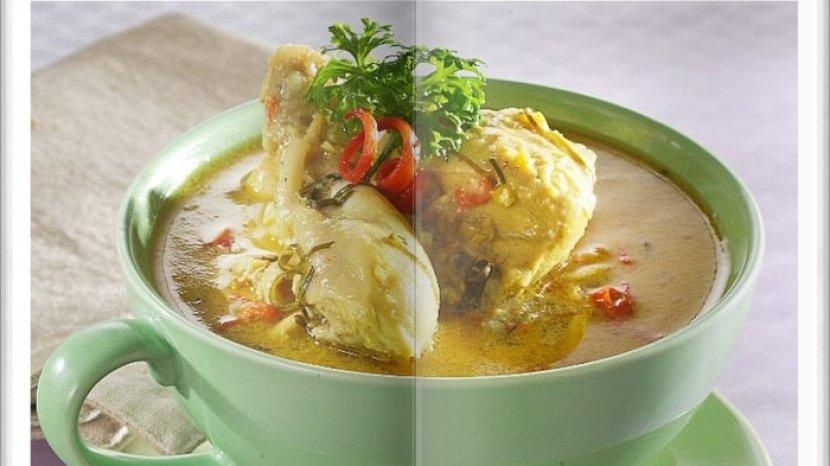gulai_ayam: (117, 74, 757, 392)
